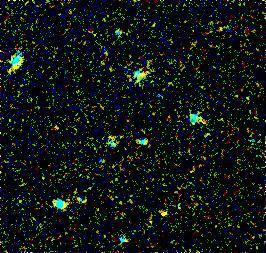star: (148, 199, 178, 229)
